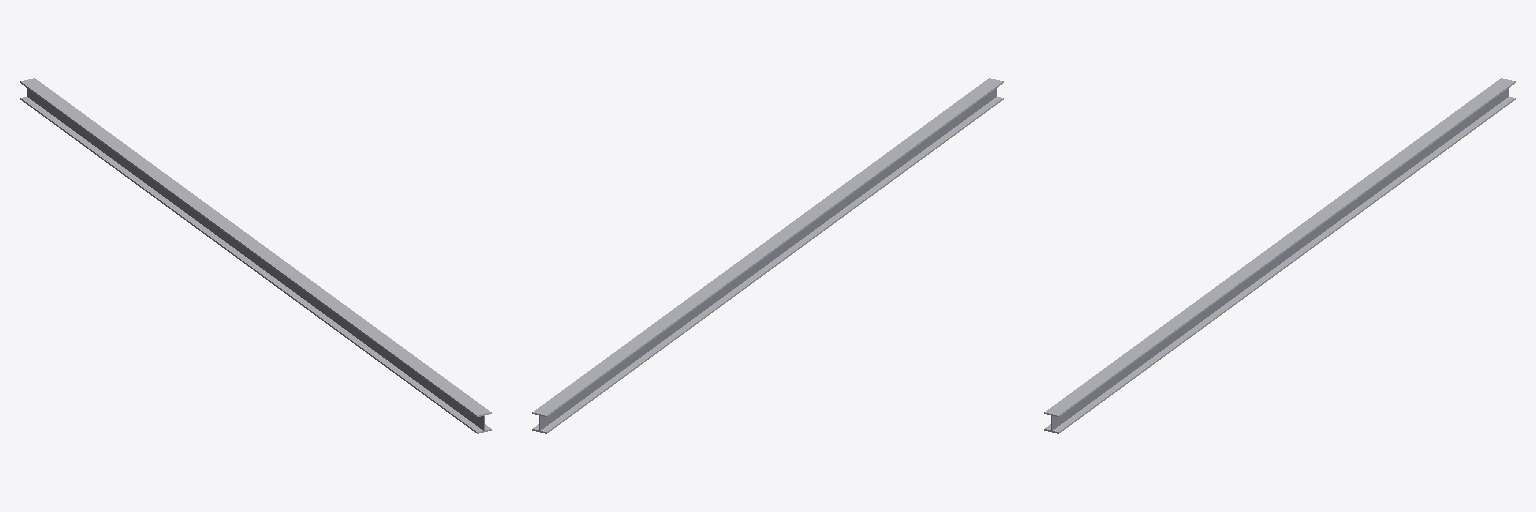
robot.urdf — h_bar:
<?xml version="1.0" ?>
<!-- =================================================================================== -->
<!-- |    This document was autogenerated by xacro from h_bar.xacro                    | -->
<!-- |    EDITING THIS FILE BY HAND IS NOT RECOMMENDED                                 | -->
<!-- =================================================================================== -->
<robot name="h_bar">
  <link name="world"/>
  <!-- Bottom leg (aligned with z-axis after rotation, below origin) -->
  <link name="hbar_bottom_leg">
    <visual>
      <origin rpy="0 1.57079633 0" xyz="0 0 0"/>
      <geometry>
        <!-- thickness x, profile width y, leg length along local z -->
        <box size="0.01 5.0 0.09"/>
      </geometry>
      <material name="hbar_material_bottom">
        <!-- Brushed steel-like gray -->
        <color rgba="0.75 0.75 0.78 1.0"/>
      </material>
    </visual>
    <collision>
      <origin rpy="0 1.57079633 0" xyz="0 0 0"/>
      <geometry>
        <box size="0.01 5.0 0.09"/>
      </geometry>
    </collision>
    <inertial>
      <origin rpy="0 0 0" xyz="0 0 0"/>
      <mass value="0.3333333333333333"/>
      <inertia ixx="0.6946694444444443" ixy="0.0" ixz="0.0" iyy="0.00022777777777777773" iyz="0.0" izz="0.6944472222222222"/>
    </inertial>
  </link>
  <!-- Top leg (aligned with z-axis after rotation, above origin) -->
  <link name="hbar_top_leg">
    <visual>
      <origin rpy="0 1.57079633 0" xyz="0 0 0"/>
      <geometry>
        <box size="0.01 5.0 0.09"/>
      </geometry>
      <material name="hbar_material_top">
        <!-- Brushed steel-like gray -->
        <color rgba="0.75 0.75 0.78 1.0"/>
      </material>
    </visual>
    <collision>
      <origin rpy="0 1.57079633 0" xyz="0 0 0"/>
      <geometry>
        <box size="0.01 5.0 0.09"/>
      </geometry>
    </collision>
    <inertial>
      <origin rpy="0 0 0" xyz="0 0 0"/>
      <mass value="0.3333333333333333"/>
      <inertia ixx="0.6946694444444443" ixy="0.0" ixz="0.0" iyy="0.00022777777777777773" iyz="0.0" izz="0.6944472222222222"/>
    </inertial>
  </link>
  <!-- Crossbar: vertical (aligned with z-axis) at the origin -->
  <link name="hbar_crossbar">
    <visual>
      <!-- Thickness in x,y, length in z -->
      <origin rpy="0 0 0" xyz="0 0 0"/>
      <geometry>
        <box size="0.01 5.0 0.1"/>
      </geometry>
      <material name="hbar_material_cross">
        <!-- Slightly darker steel for visual contrast -->
        <color rgba="0.65 0.65 0.7 1.0"/>
      </material>
    </visual>
    <collision>
      <origin rpy="0 0 0" xyz="0 0 0"/>
      <geometry>
        <box size="0.01 5.0 0.1"/>
      </geometry>
    </collision>
    <inertial>
      <origin rpy="0 0 0" xyz="0 0 0"/>
      <mass value="0.3333333333333333"/>
      <inertia ixx="0.6947222222222222" ixy="0.0" ixz="0.0" iyy="0.0002805555555555556" iyz="0.0" izz="0.6944472222222222"/>
    </inertial>
  </link>
  <!-- Fix crossbar to world; its center is at the macro pose -->
  <joint name="hbar_cross_fix" type="fixed">
    <parent link="world"/>
    <child link="hbar_crossbar"/>
    <origin rpy="0 0 0" xyz="0 0 0"/>
  </joint>
  <!-- Top leg: translated +L_leg/2 in x and +L_span/2 in z relative to crossbar -->
  <joint name="hbar_top_fix" type="fixed">
    <parent link="hbar_crossbar"/>
    <child link="hbar_top_leg"/>
    <origin rpy="0 0.0 0" xyz="0 0 0.05"/>
  </joint>
  <!-- Bottom leg: translated +L_leg/2 in x and -L_span/2 in z relative to crossbar -->
  <joint name="hbar_bottom_fix" type="fixed">
    <parent link="hbar_crossbar"/>
    <child link="hbar_bottom_leg"/>
    <origin rpy="0 0 0" xyz="0 0 -0.05"/>
  </joint>
</robot>

--- Render facts (derived) ---
Views: 3 orthographic renders of the robot side by side, from view 1: azimuth 30°, elevation 25°; view 2: azimuth 150°, elevation 25°; view 3: azimuth 330°, elevation 25°.
Model h_bar with 4 links and 3 joints (3 fixed), rooted at world, posed every joint at zero.
Visible links, largest first — view 1: hbar_top_leg, hbar_crossbar, hbar_bottom_leg; view 2: hbar_top_leg, hbar_crossbar, hbar_bottom_leg; view 3: hbar_top_leg, hbar_crossbar, hbar_bottom_leg.
Link boxes in pixels (box(x1,y1,x2,y2)): hbar_top_leg: box(20, 78, 491, 416); hbar_crossbar: box(27, 88, 484, 430); hbar_bottom_leg: box(20, 97, 491, 433); hbar_top_leg: box(532, 78, 1003, 416); hbar_crossbar: box(539, 88, 996, 430); hbar_bottom_leg: box(532, 97, 1003, 433); hbar_top_leg: box(1044, 78, 1515, 416); hbar_crossbar: box(1051, 88, 1508, 430); hbar_bottom_leg: box(1044, 97, 1515, 433).
Bounding box of the posed robot: 0.09 × 5 × 0.11 m (x, y, z).
Geometry: primitives only (box / cylinder / sphere), no mesh files.
